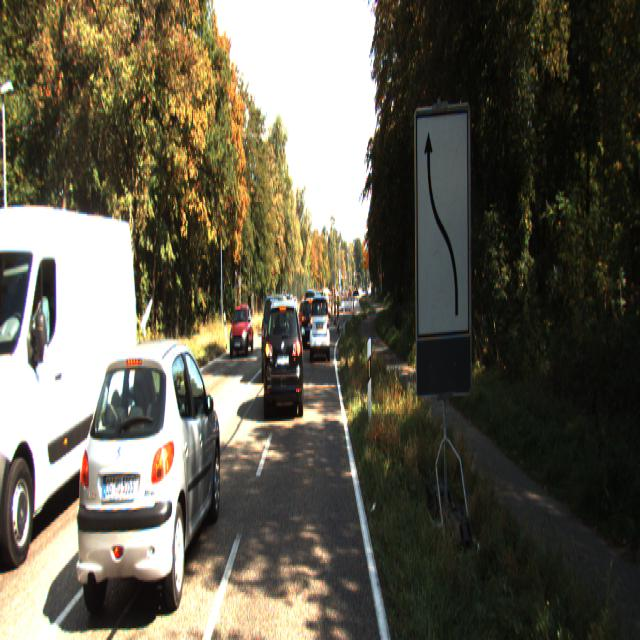Car: (0, 188, 140, 568), (78, 330, 221, 628), (263, 295, 304, 417), (260, 293, 292, 380), (229, 300, 254, 354), (310, 291, 329, 356)
